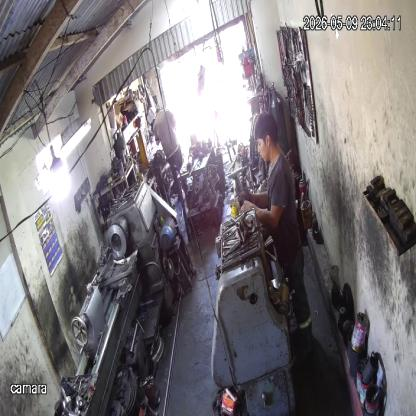sin_lentes: (250, 139, 272, 153)
